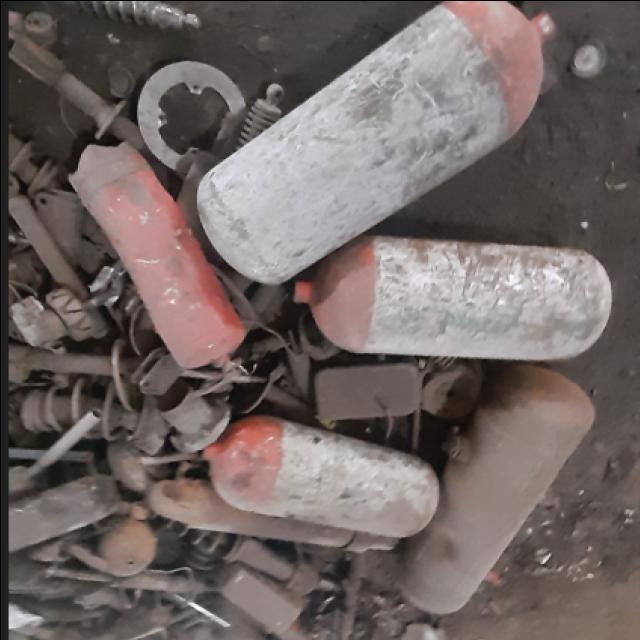cylinder: (196, 1, 557, 284), (295, 234, 612, 359), (202, 414, 438, 537)
